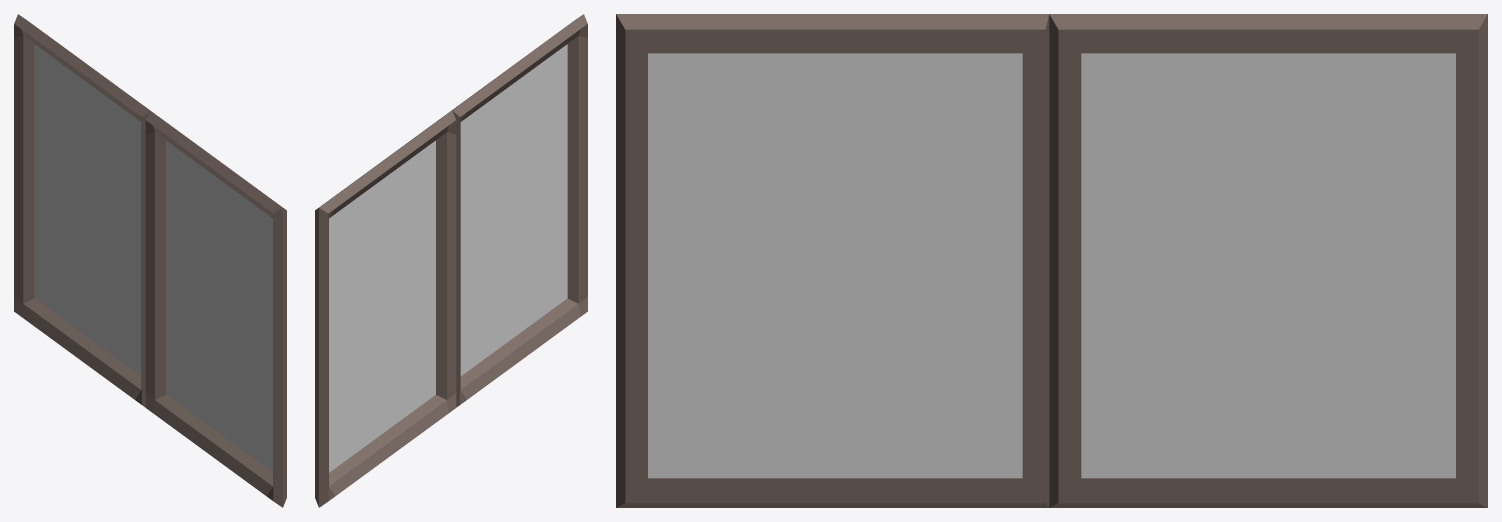
File: window.fbx
The picture shows the model from 3 angles, left to right: view 1: azimuth 30°, elevation 25°; view 2: azimuth 150°, elevation 25°; view 3: azimuth 270°, elevation 25°; orthographic projection. The views are drawn at different scales.
Visible parts, largest first — view 1: window; view 2: window; view 3: window.
Part boxes in pixels (x1=…): window: x1=14, y1=14, x2=286, y2=507; window: x1=315, y1=14, x2=587, y2=507; window: x1=616, y1=14, x2=1487, y2=507.
Bounding box in the file's own units: 10.25 × 220 × 352.
